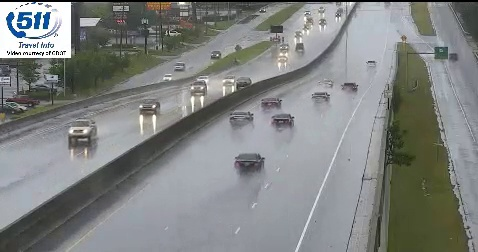car: (234, 153, 264, 172), (230, 110, 253, 126), (271, 113, 293, 129), (261, 97, 282, 110), (311, 91, 330, 104), (341, 82, 358, 94)
